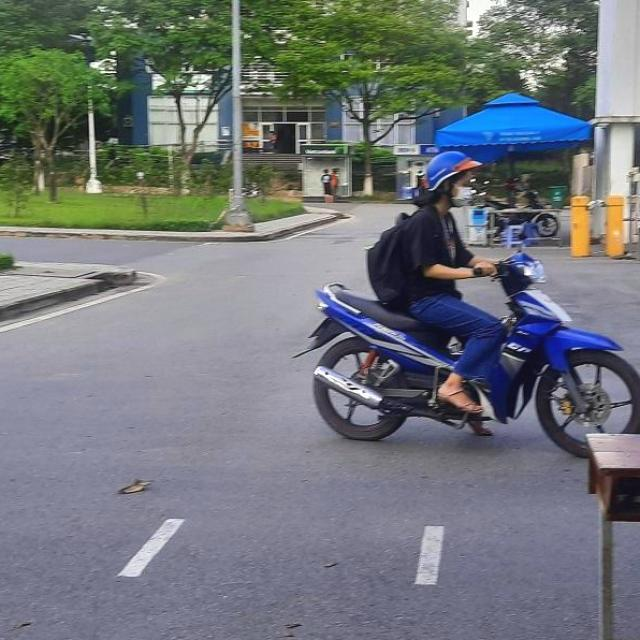Helmet: (424, 150, 476, 207)
